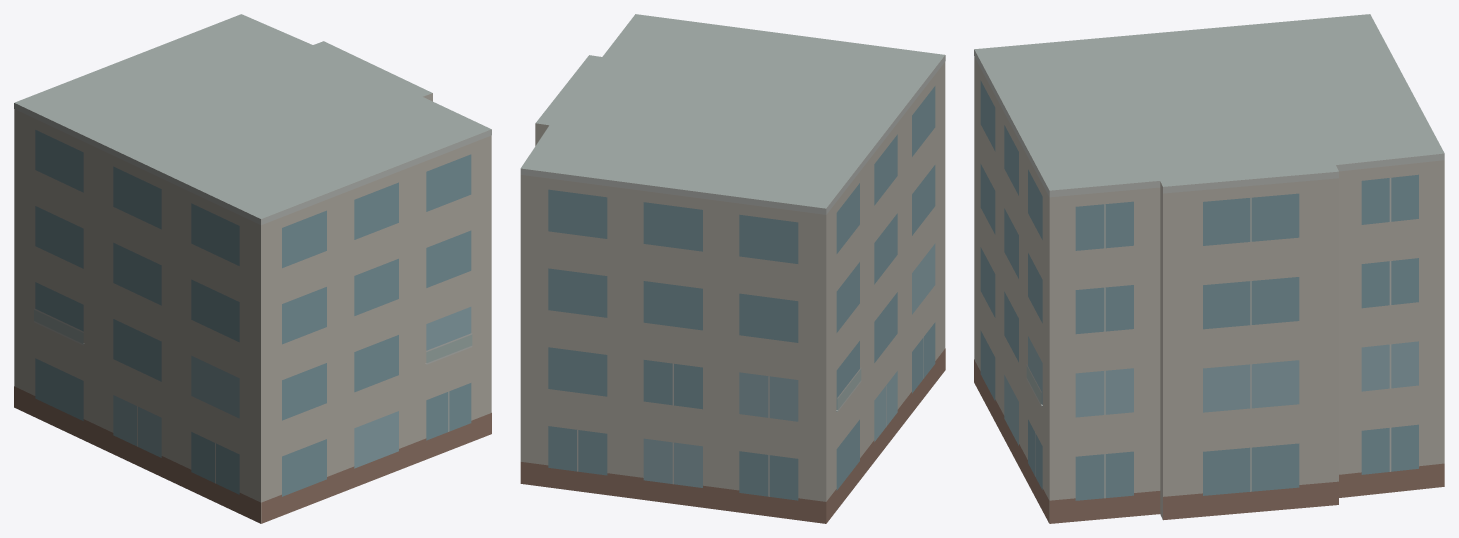
File: survey-upis-32696796.glb
3 views of the same model, side by side, from view 1: azimuth 30°, elevation 25°; view 2: azimuth 150°, elevation 25°; view 3: azimuth 270°, elevation 25° (orthographic). The views are drawn at different scales.
Visible parts, largest first — view 1: survey-upis-32696796.tmp; view 2: survey-upis-32696796.tmp; view 3: survey-upis-32696796.tmp.
Part boxes in pixels (x1,y1,x2,y2): survey-upis-32696796.tmp: (14, 14, 491, 523); survey-upis-32696796.tmp: (520, 14, 945, 523); survey-upis-32696796.tmp: (974, 14, 1444, 523).
Size of the model in its own units: 13.88 by 12.2 by 15.63.
